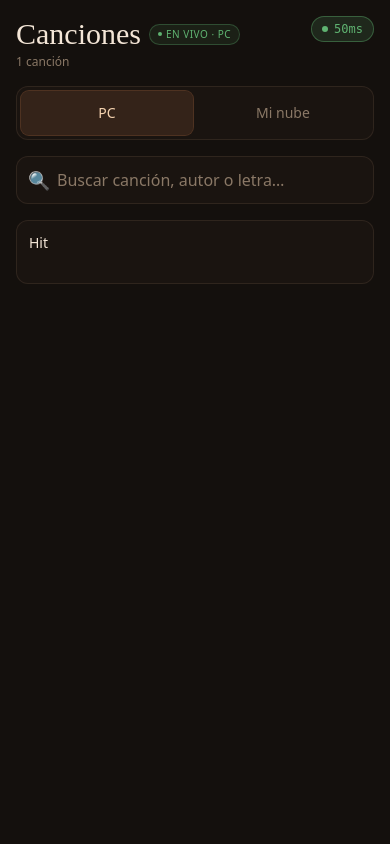
13. PGM_UPDATE con type:song matcheando seleccion muestra EN VIVO
Click the button with aria-label "Canción Hit" at (39, 242), box [16, 220, 374, 284]
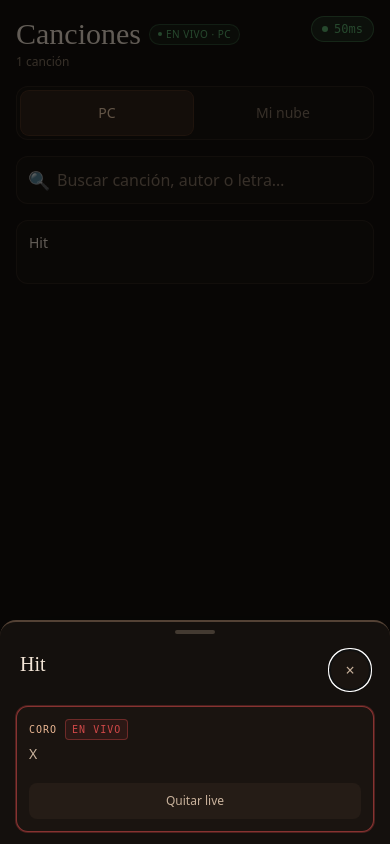
Expected: the text "EN VIVO" is shown, [65, 719, 128, 740]
